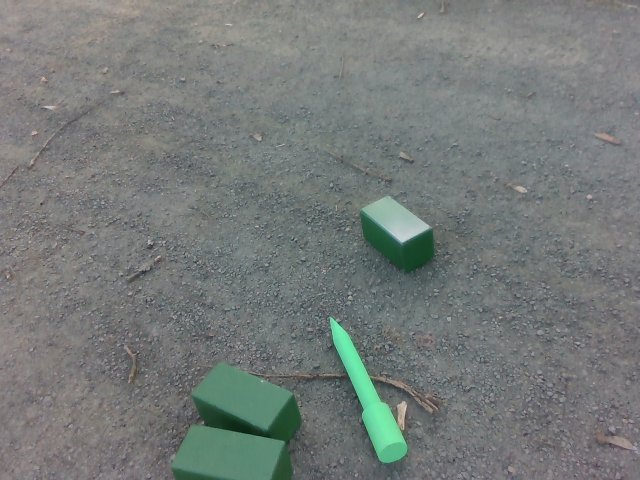Probe: (321, 315, 416, 463)
